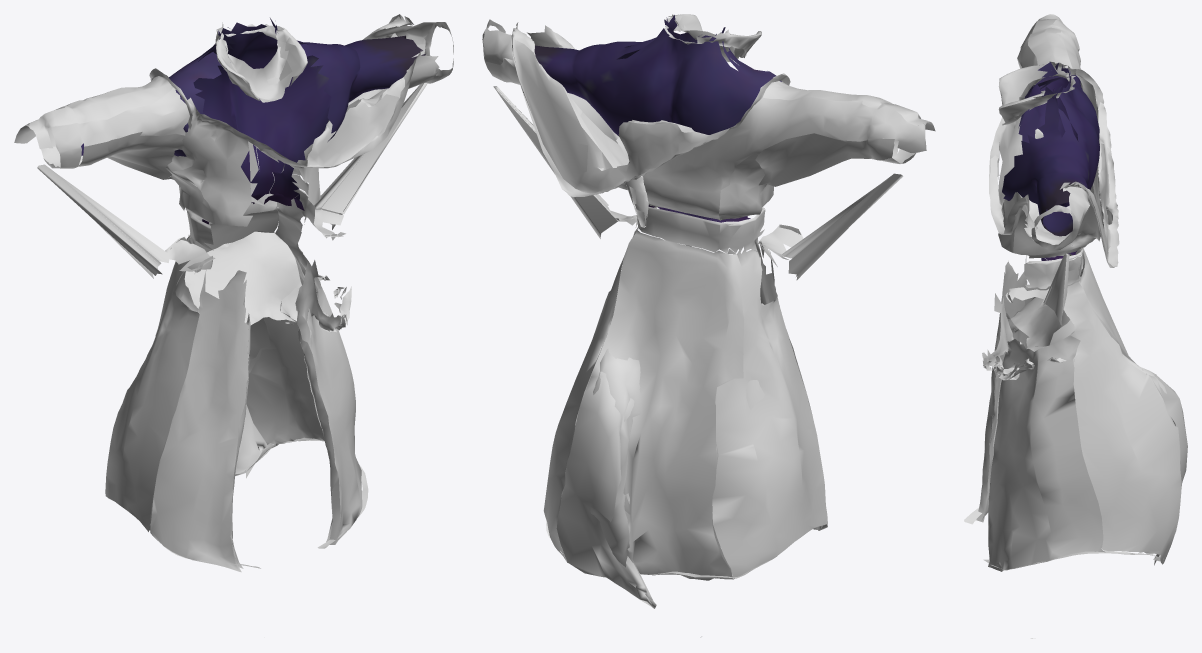
Rendered from mage_m_coat.glb.
3 renders of one model, left to right at view 1: azimuth 30°, elevation 25°; view 2: azimuth 150°, elevation 25°; view 3: azimuth 270°, elevation 25°, orthographic. The views are drawn at different scales.
Parts seen in each view (by area): view 1: item; view 2: item; view 3: item.
Part boxes in pixels (x1=…): item: x1=14, y1=14, x2=453, y2=572; item: x1=482, y1=14, x2=935, y2=637; item: x1=964, y1=14, x2=1187, y2=638.
Bounding box in the file's own units: 0.6614 × 0.8922 × 0.3219.
